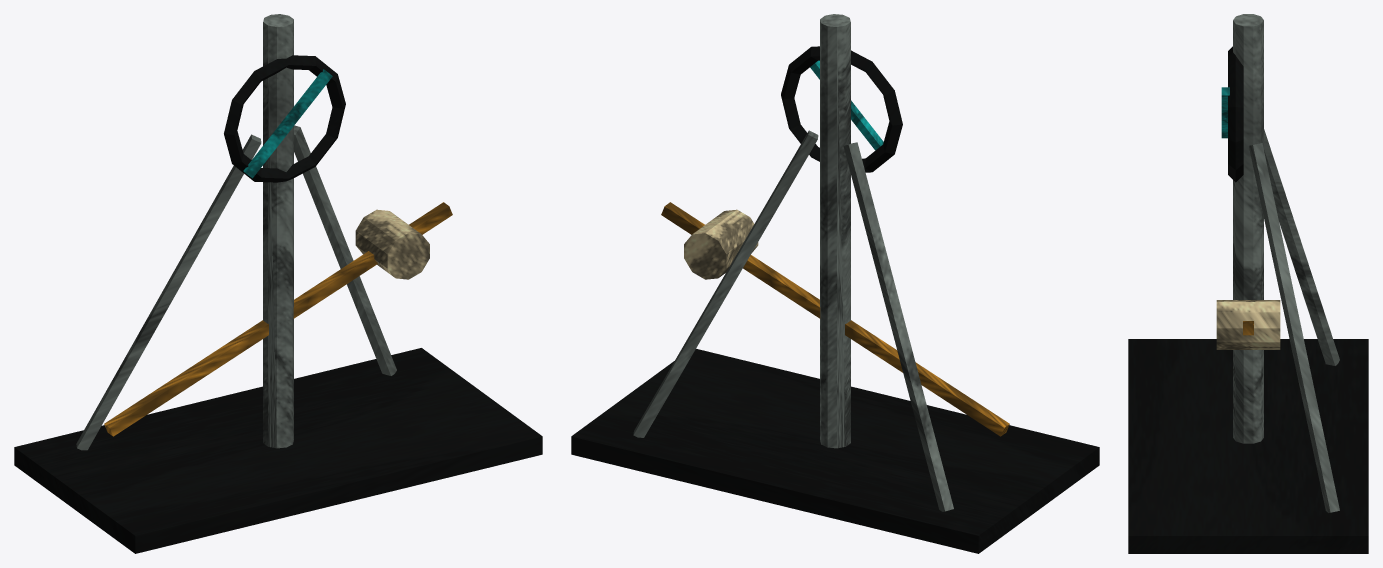
File: mass-driver-eclipse-marker.glb
3 views of the same model, side by side, from view 1: azimuth 30°, elevation 25°; view 2: azimuth 150°, elevation 25°; view 3: azimuth 270°, elevation 25° (orthographic).
Parts seen in each view (by area): view 1: mass-driver-eclipse-marker; view 2: mass-driver-eclipse-marker; view 3: mass-driver-eclipse-marker.
Boxes of the visible parts, left/top/right/bottom form: mass-driver-eclipse-marker: left=14, top=14, right=542, bottom=553; mass-driver-eclipse-marker: left=571, top=14, right=1099, bottom=553; mass-driver-eclipse-marker: left=1128, top=14, right=1368, bottom=553.
Bounding box in the file's own units: 6.6 × 6.8 × 3.4.
Materials: 1 (1 with a texture image).
